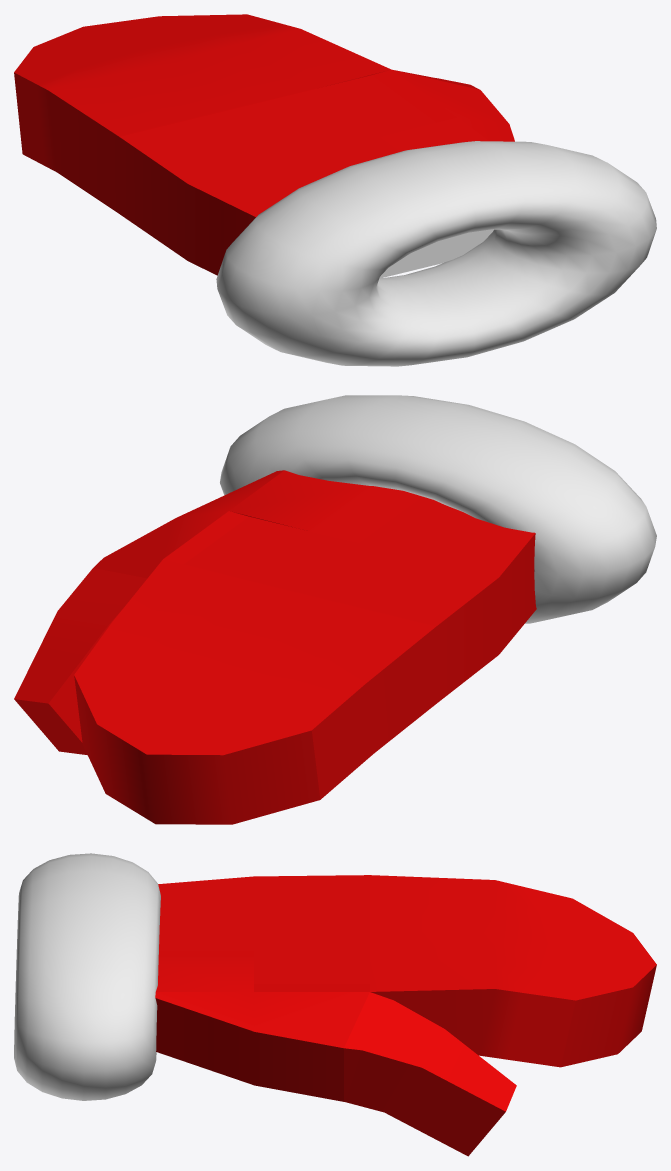
File: mainG.fbx
3 views of the same model, one above another, from view 1: azimuth 30°, elevation 25°; view 2: azimuth 150°, elevation 25°; view 3: azimuth 270°, elevation 25° (orthographic). The views are drawn at different scales.
Parts seen in each view (by area): view 1: pCube4; view 2: pCube4; view 3: pCube4.
Boxes of the visible parts, left/top/right/bottom form: pCube4: left=14, top=14, right=656, bottom=366; pCube4: left=14, top=395, right=656, bottom=824; pCube4: left=14, top=853, right=656, bottom=1156.
Bounding box in the file's own units: 1.65 × 0.8165 × 2.5.
